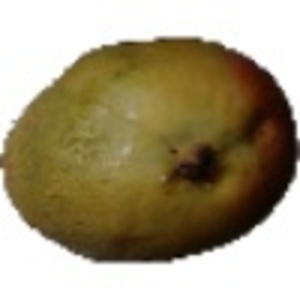mamão: (3, 35, 298, 271)
